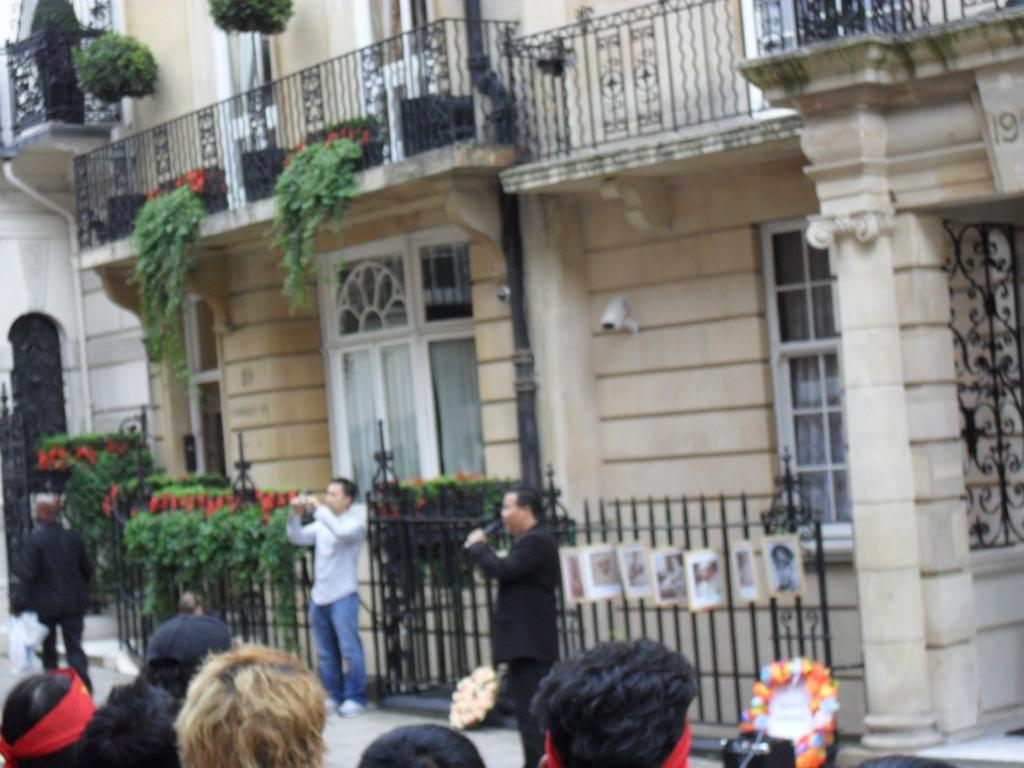Sem Máscara: (497, 495, 517, 528), (326, 477, 344, 512)
